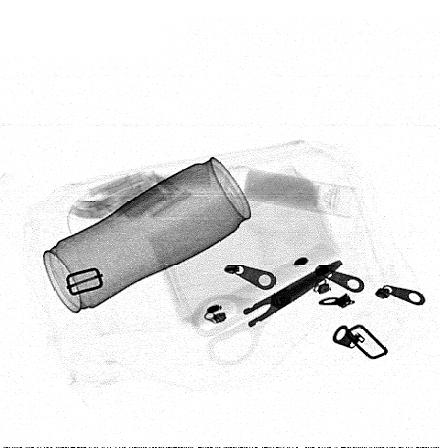Scissors: (190, 257, 343, 369)
